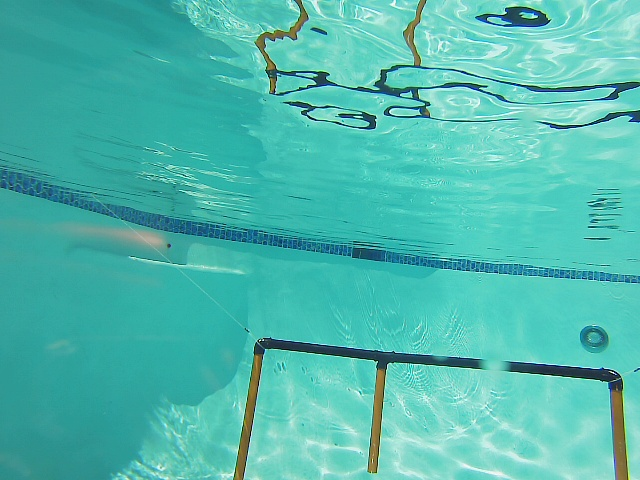Gate: (230, 351, 264, 480), (362, 364, 392, 477), (606, 385, 635, 480)
